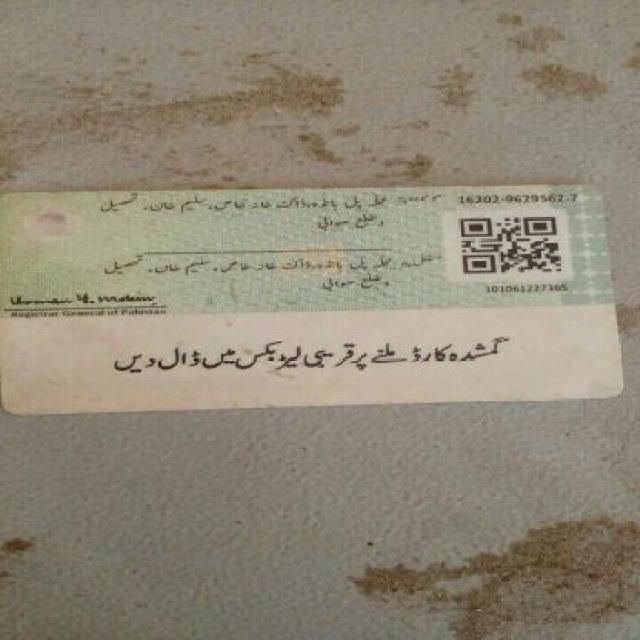Back: (5, 184, 623, 410)
